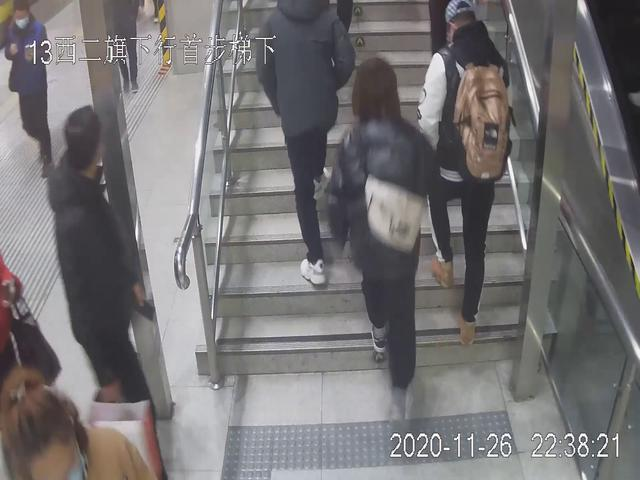person: (318, 53, 439, 439), (41, 102, 161, 422), (414, 1, 515, 346), (253, 1, 356, 289), (1, 1, 59, 181)
